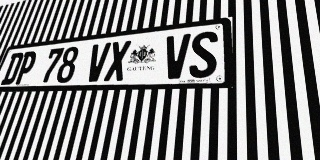7: (38, 48, 65, 84)
8: (54, 46, 81, 83)
D: (0, 52, 25, 85)
P: (13, 51, 39, 84)
S: (188, 30, 218, 78)
V: (162, 33, 191, 79), (84, 42, 111, 82)
X: (103, 40, 131, 81)
